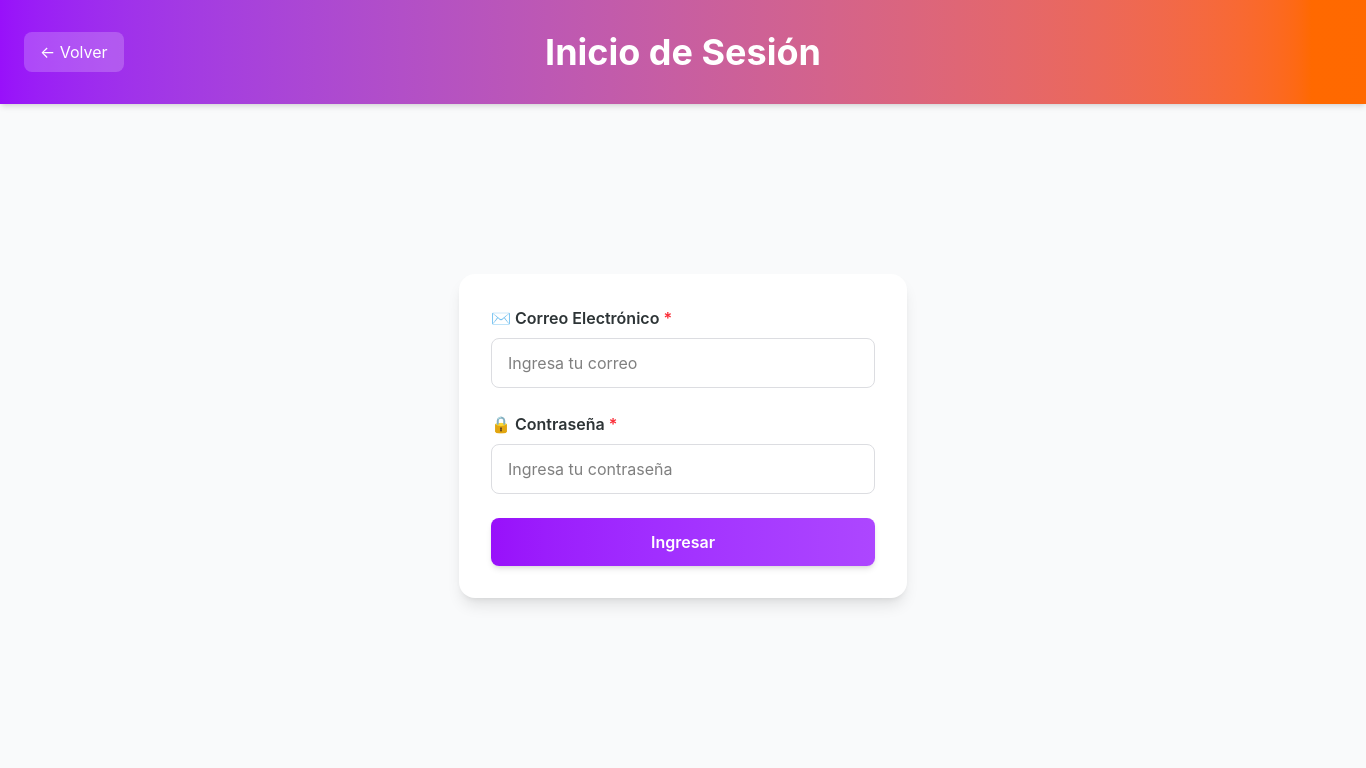
it: LoginScreen Component › Simula login fallido y muestra mensaje de error
Type "wrong@test.com" into the field labelled "✉️ Correo Electrónico *" at (683, 363), box top-left (491, 338), bottom-right (875, 388)
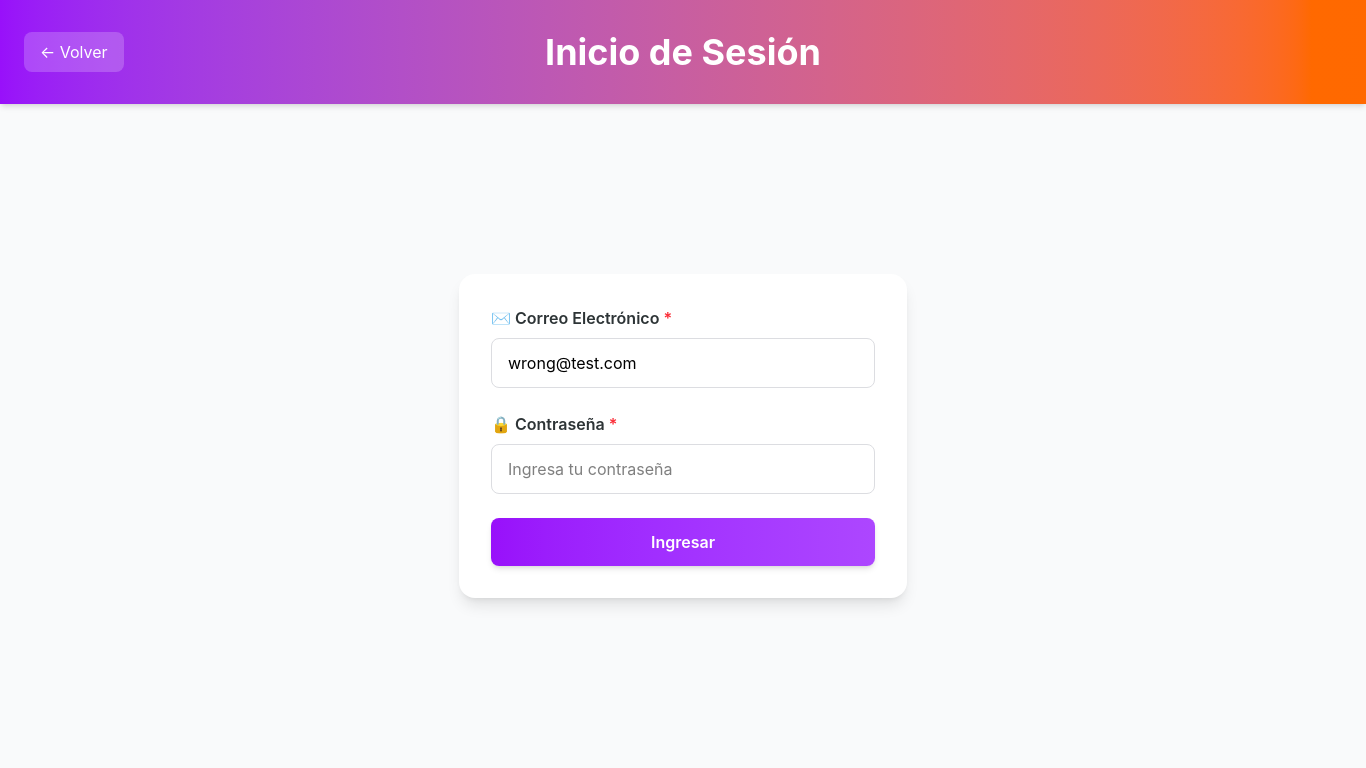
Type "WrongPass123" into the password field labelled "🔒 Contraseña *" at (683, 469), box top-left (491, 444), bottom-right (875, 494)
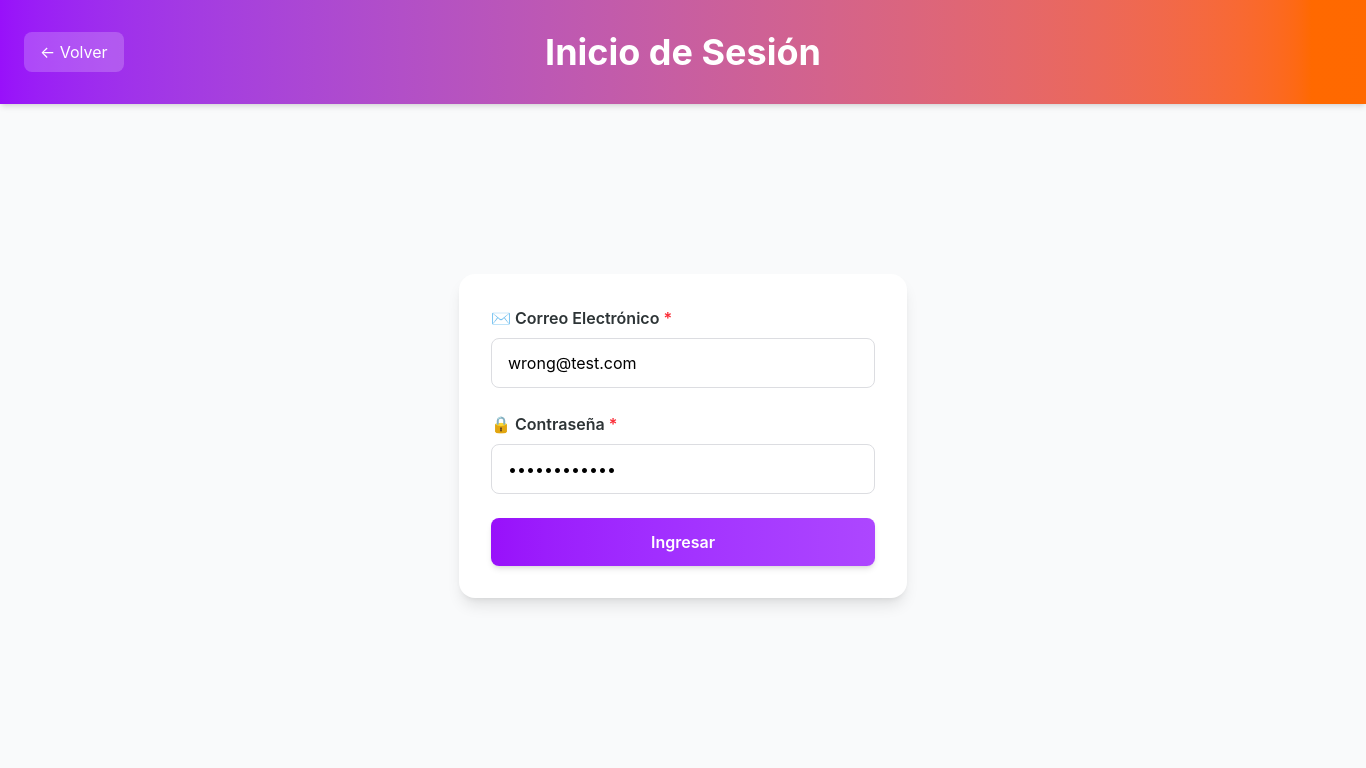
Submit the form with test id "login-form", box top-left (491, 306), bottom-right (875, 566)
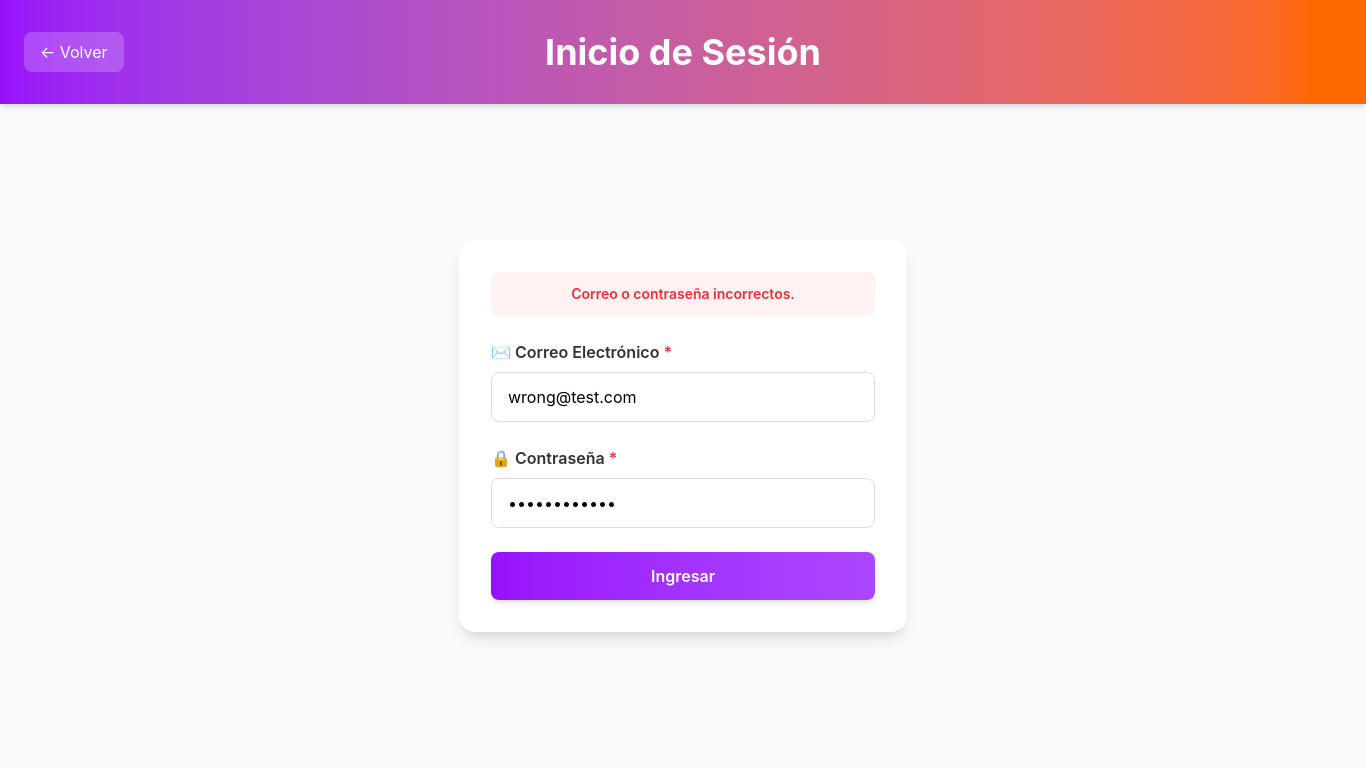
Expected: the text "Correo o contraseña incorrectos." is shown, top-left (491, 272), bottom-right (875, 316)
